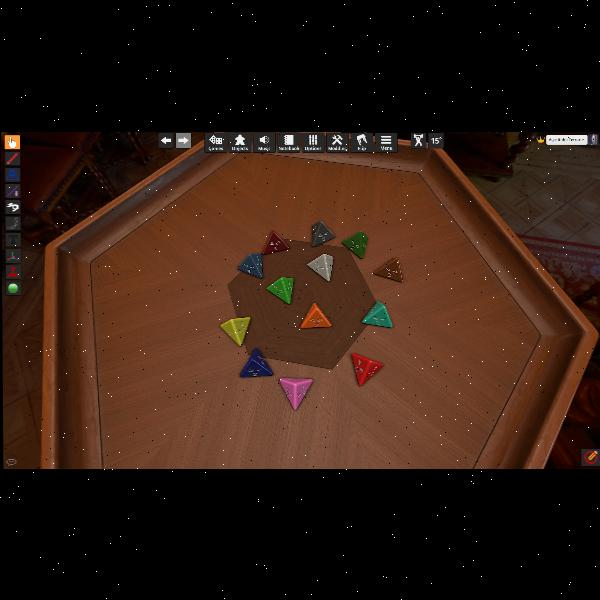d4: (279, 377, 313, 410), (352, 354, 384, 386), (240, 348, 274, 378), (220, 316, 251, 346), (362, 301, 393, 329), (306, 253, 334, 281), (267, 276, 294, 304), (301, 302, 330, 328), (262, 231, 290, 256), (237, 252, 263, 278), (342, 230, 366, 258), (311, 220, 335, 248), (374, 257, 402, 281)
